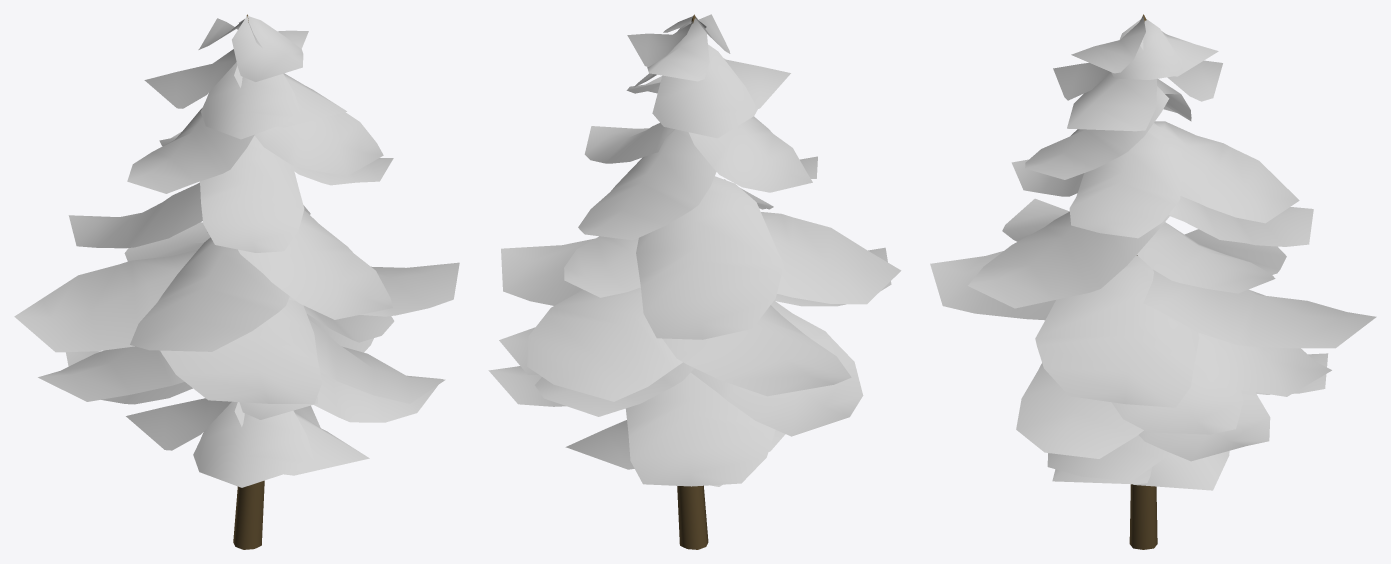
File: PineTree_5.glb
3 renders of one model, left to right at view 1: azimuth 30°, elevation 25°; view 2: azimuth 150°, elevation 25°; view 3: azimuth 270°, elevation 25°, orthographic.
Parts seen in each view (by area): view 1: PineTree_5; view 2: PineTree_5; view 3: PineTree_5.
Part boxes in pixels (bbox=[...]): PineTree_5: bbox=[14, 14, 459, 549]; PineTree_5: bbox=[488, 14, 901, 549]; PineTree_5: bbox=[930, 14, 1376, 549].
Bounding box in the file's own units: 3.31 × 4.3 × 3.29.
